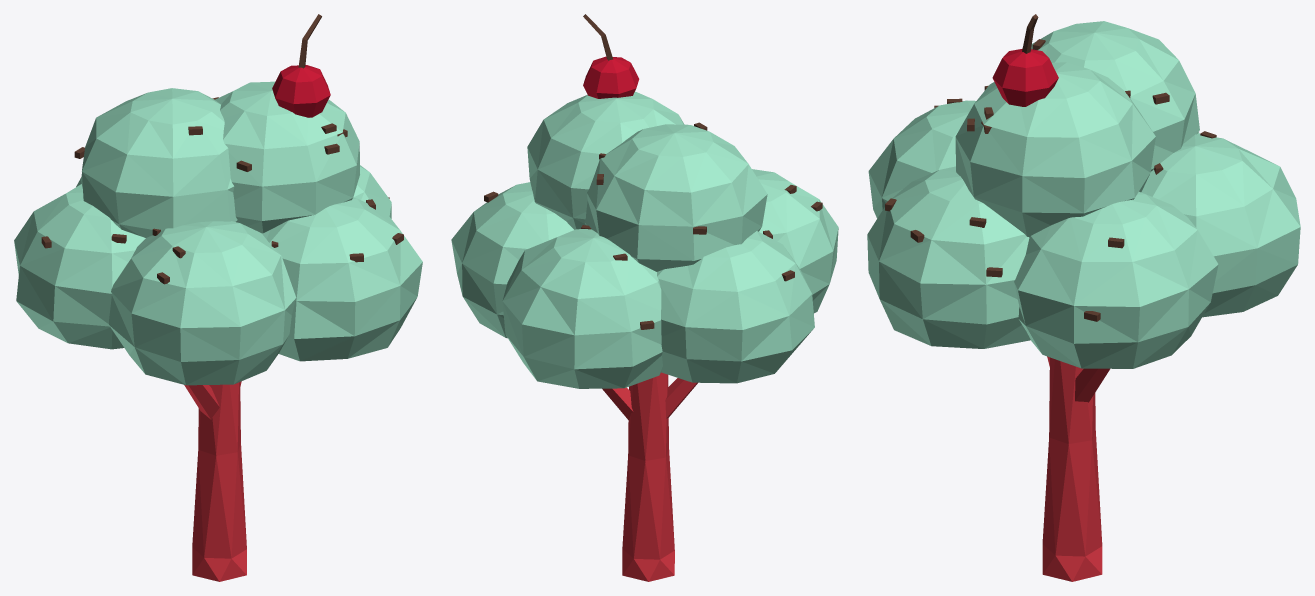
File: CV3_TreeIceCream.fbx
3 views of the same model, side by side, from view 1: azimuth 30°, elevation 25°; view 2: azimuth 150°, elevation 25°; view 3: azimuth 270°, elevation 25° (orthographic). The views are drawn at different scales.
Visible parts, largest first — view 1: CV3_TreeIceCream_Crown, CV3_TreeIceCream_Trunk, CV3_TreeIceCream_CrownCherry, CV3_TreeIceCream_CrownChips; view 2: CV3_TreeIceCream_Crown, CV3_TreeIceCream_Trunk, CV3_TreeIceCream_CrownCherry, CV3_TreeIceCream_CrownChips; view 3: CV3_TreeIceCream_Crown, CV3_TreeIceCream_Trunk, CV3_TreeIceCream_CrownCherry, CV3_TreeIceCream_CrownChips.
Boxes of the visible parts, x1,y1,x2,y2 form: CV3_TreeIceCream_Crown: (14, 81, 422, 385); CV3_TreeIceCream_Trunk: (184, 381, 246, 581); CV3_TreeIceCream_CrownCherry: (272, 65, 330, 117); CV3_TreeIceCream_CrownChips: (41, 14, 403, 284); CV3_TreeIceCream_Crown: (451, 91, 838, 388); CV3_TreeIceCream_Trunk: (602, 372, 697, 581); CV3_TreeIceCream_CrownCherry: (583, 56, 639, 98); CV3_TreeIceCream_CrownChips: (484, 14, 822, 329); CV3_TreeIceCream_Crown: (867, 21, 1300, 368); CV3_TreeIceCream_Trunk: (1042, 356, 1109, 581); CV3_TreeIceCream_CrownCherry: (992, 48, 1058, 106); CV3_TreeIceCream_CrownChips: (885, 14, 1216, 321).
Bounding box in the file's own units: 18.35 × 26.79 × 17.62.
